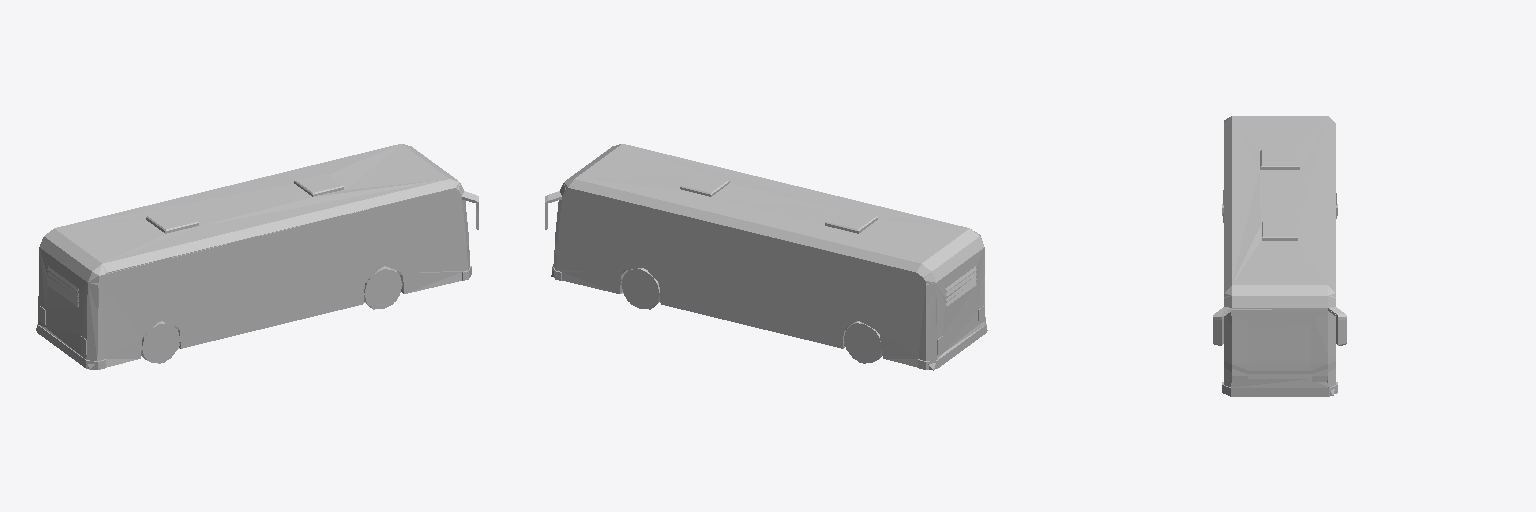
The model's file is Bus.obj.
3 views of the same model, side by side, from view 1: azimuth 30°, elevation 25°; view 2: azimuth 150°, elevation 25°; view 3: azimuth 270°, elevation 25° (orthographic).
Parts seen in each view (by area): view 1: Bus_LOD2_, Bus_LOD1, Bus_LOD0; view 2: Bus_LOD2_, Bus_LOD1, Bus_LOD0; view 3: Bus_LOD2_, Bus_LOD1, Bus_LOD0.
Boxes of the visible parts, x1=… form: Bus_LOD2_: x1=36, y1=144, x2=478, y2=369; Bus_LOD1: x1=37, y1=144, x2=478, y2=369; Bus_LOD0: x1=37, y1=152, x2=478, y2=368; Bus_LOD2_: x1=545, y1=144, x2=987, y2=370; Bus_LOD1: x1=545, y1=163, x2=986, y2=369; Bus_LOD0: x1=545, y1=152, x2=986, y2=369; Bus_LOD2_: x1=1221, y1=116, x2=1338, y2=395; Bus_LOD1: x1=1213, y1=116, x2=1346, y2=396; Bus_LOD0: x1=1213, y1=119, x2=1346, y2=396.
Size of the model in its own units: 80.64 by 22.78 by 24.21.